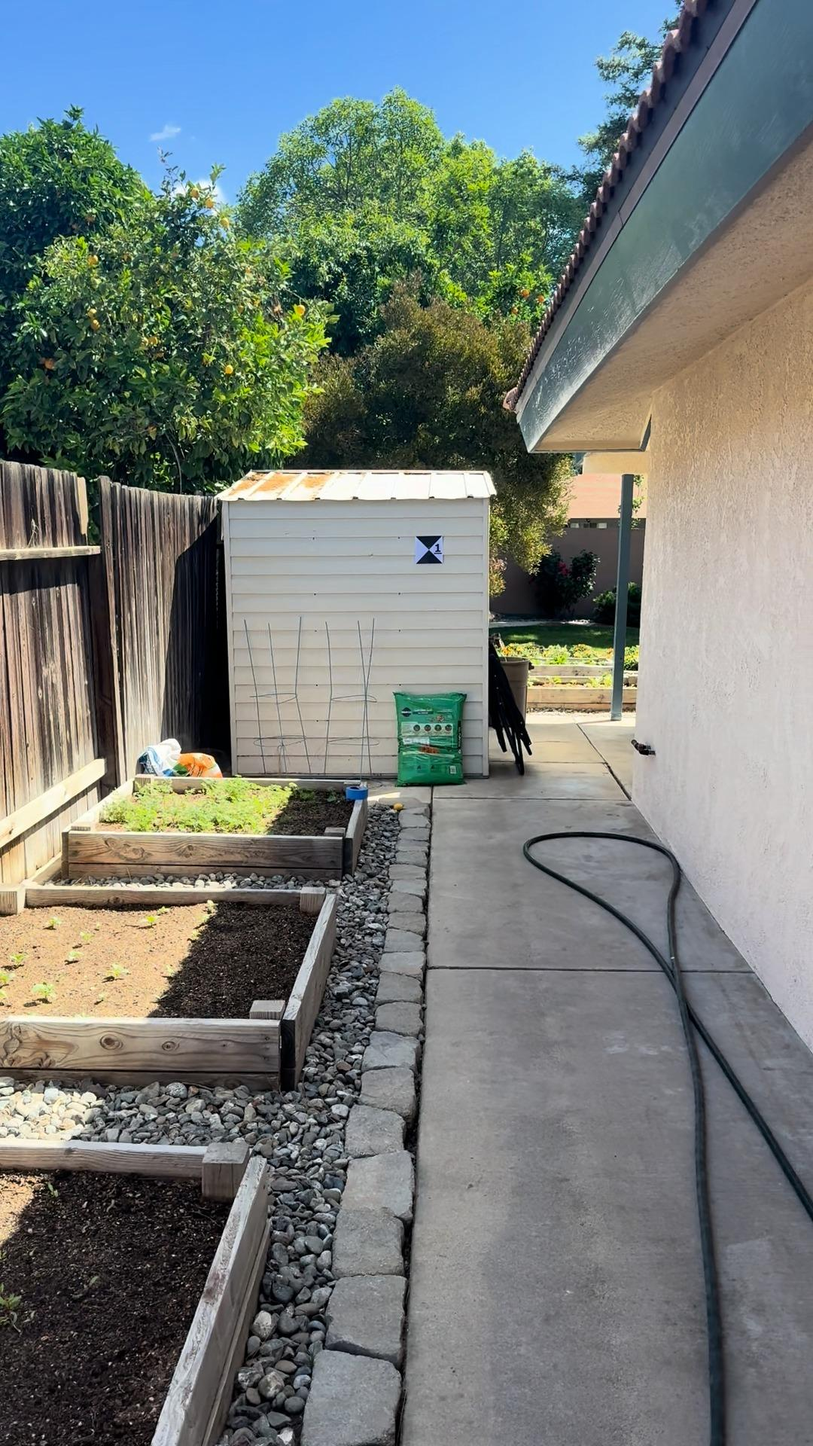target1: (414, 534, 446, 566)
